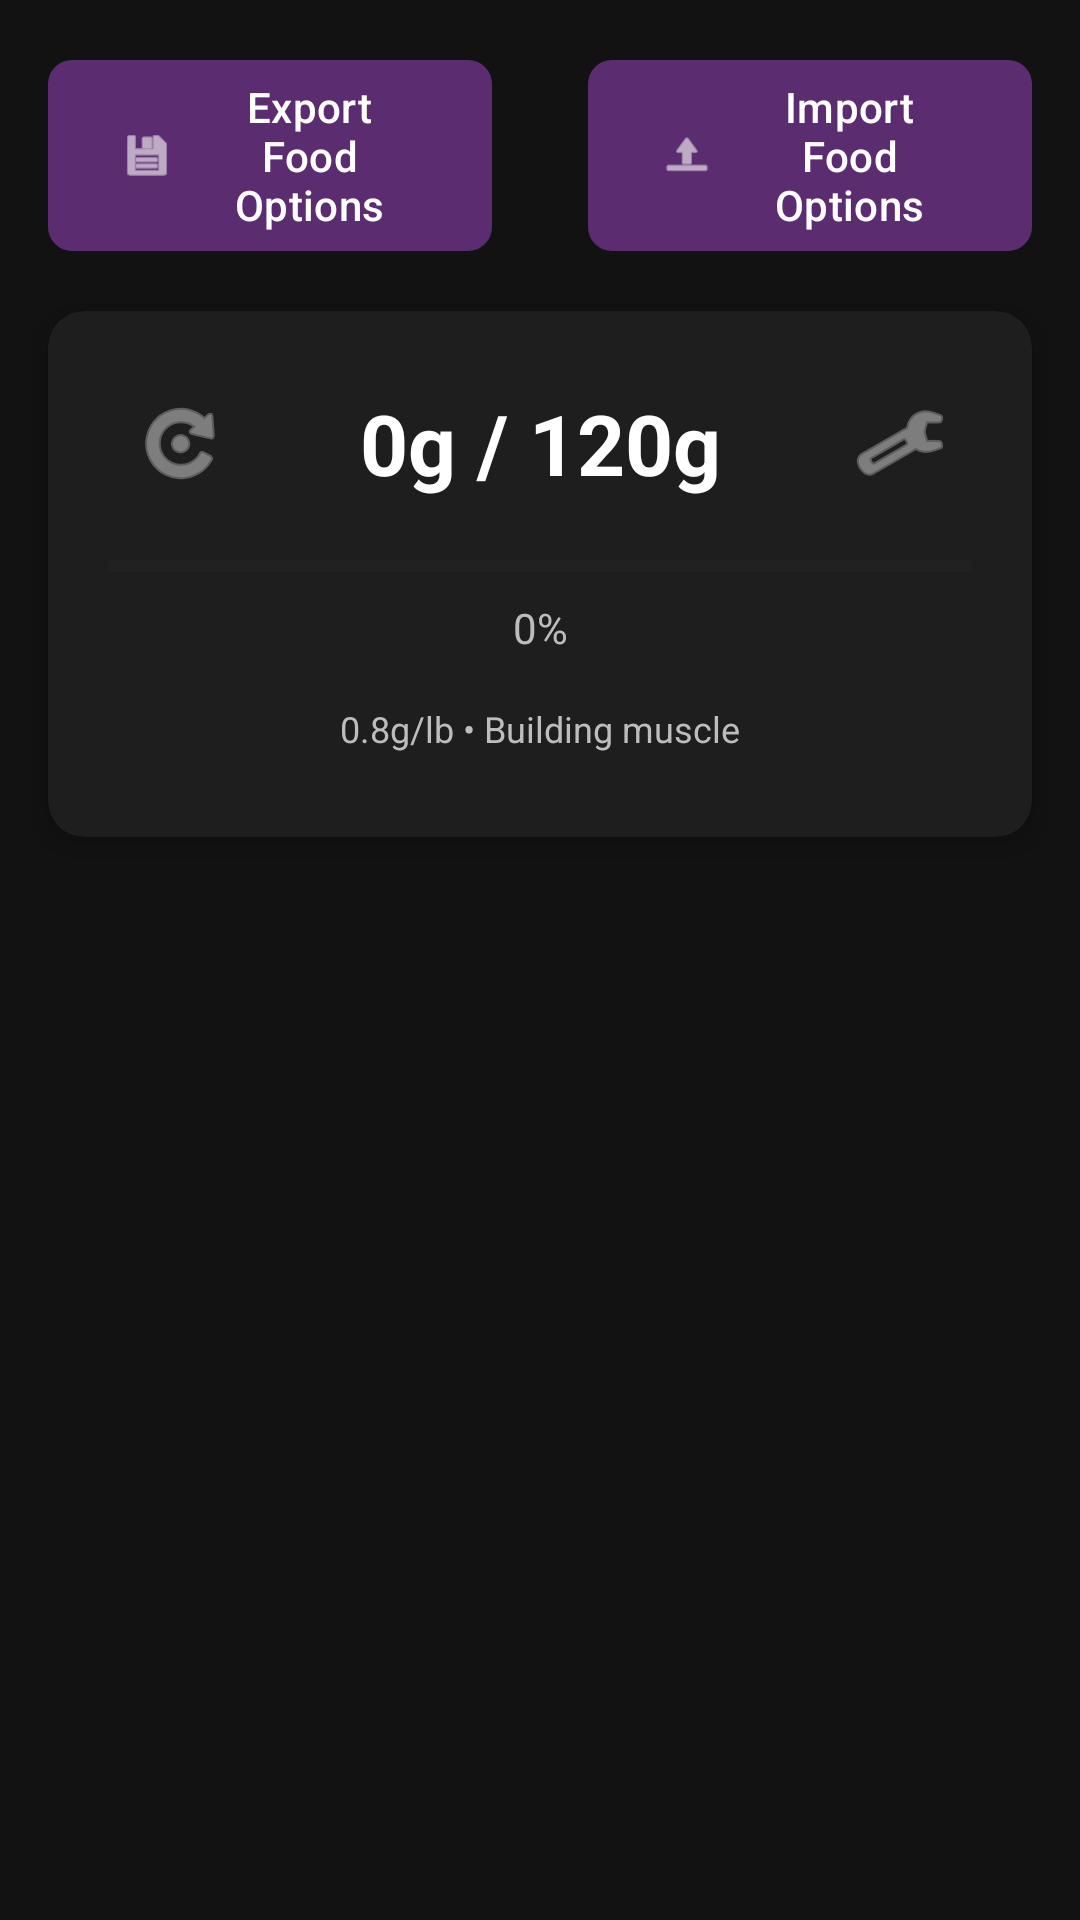

Icon click points for this 1080px x 1920px phone screenshot, format [x,y]:
Reset sliders: [180,443]
Settings: [900,443]
